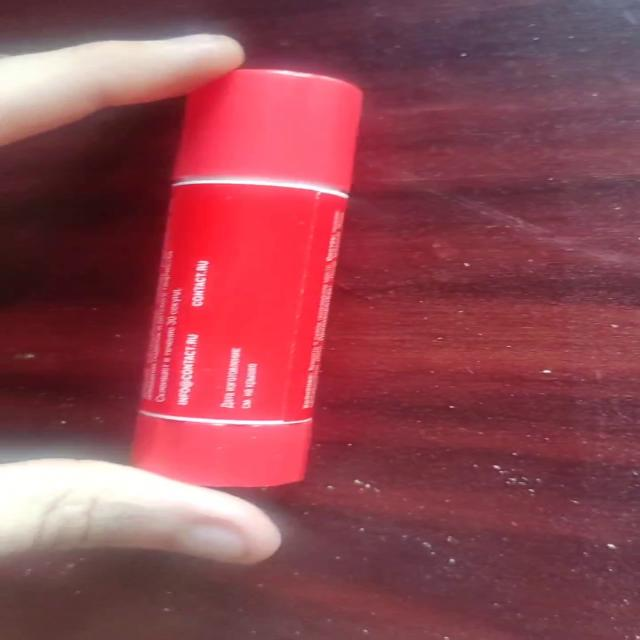glue: (127, 67, 364, 488)
